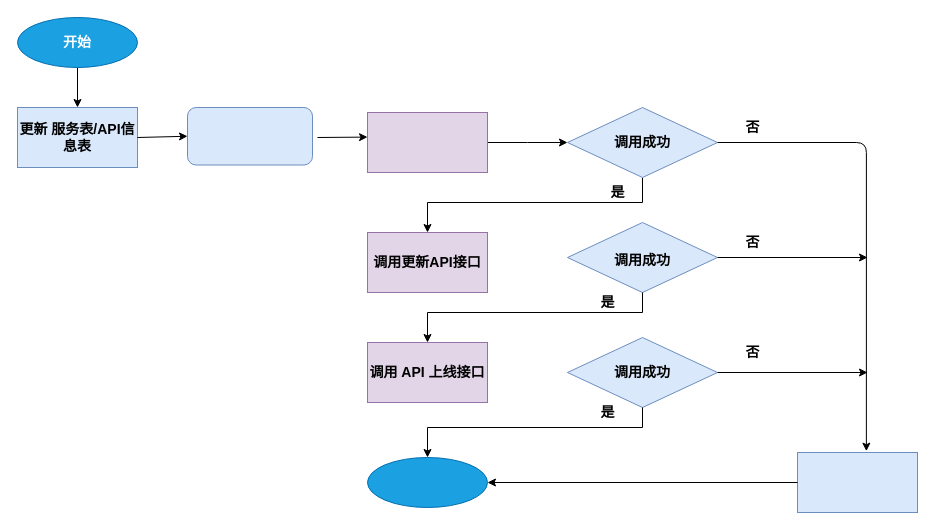
Some shapes in this 935 by 530 pixel diagram are drawn without their labels. The box of each missing label's shape, as (x1, y1, x2, y2) in pixels:
回滚操作: (796, 452, 918, 512)
更新AD相应资源: (186, 106, 312, 165)
结束: (366, 456, 488, 508)
调用下线接口: (366, 112, 488, 172)
